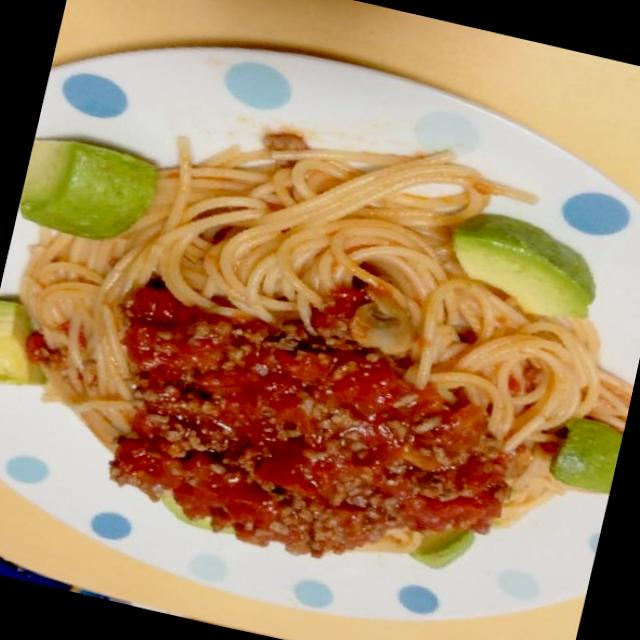Pasta: (0, 156, 592, 598)
